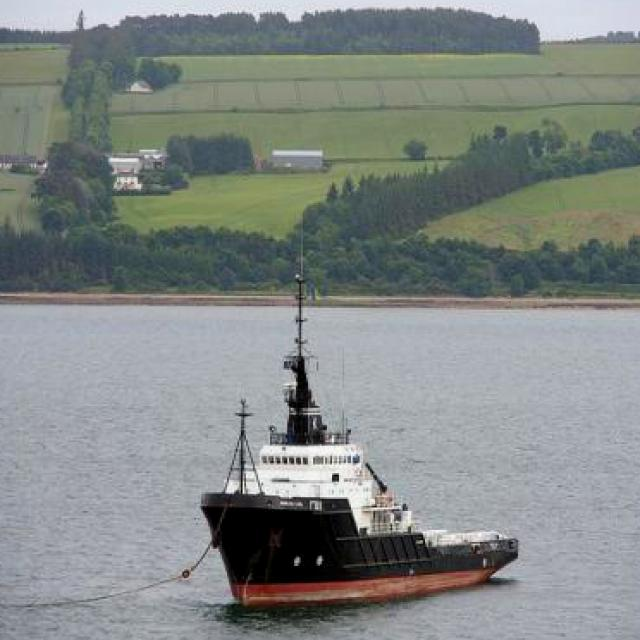ship: (196, 204, 533, 608)
